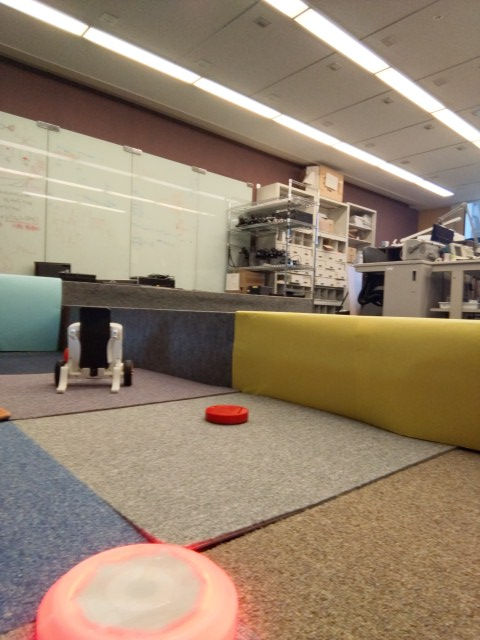f: (54, 298, 134, 395)
r: (35, 539, 242, 640)
